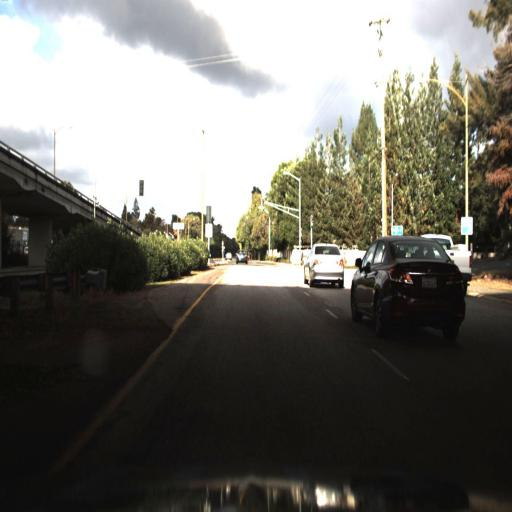car: (347, 244, 469, 358), (300, 242, 350, 286), (443, 233, 475, 284), (232, 246, 249, 265)
trafficLight-Green: (260, 192, 266, 213)
